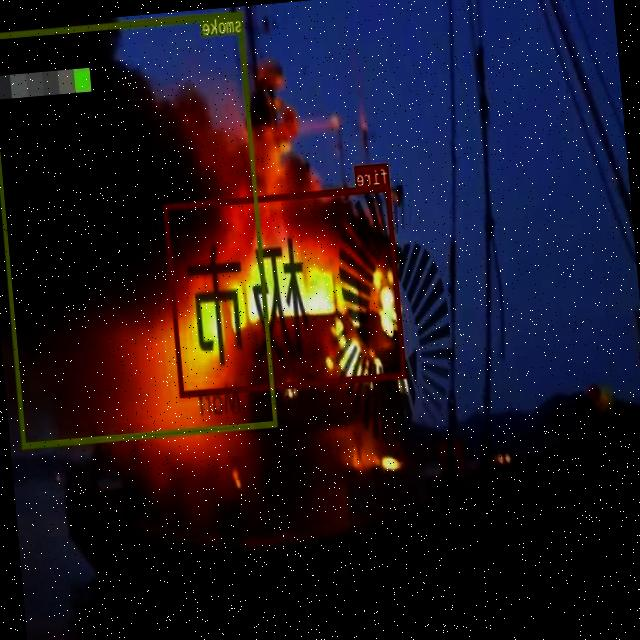fire: (164, 183, 406, 396)
smoke: (0, 9, 277, 447)
